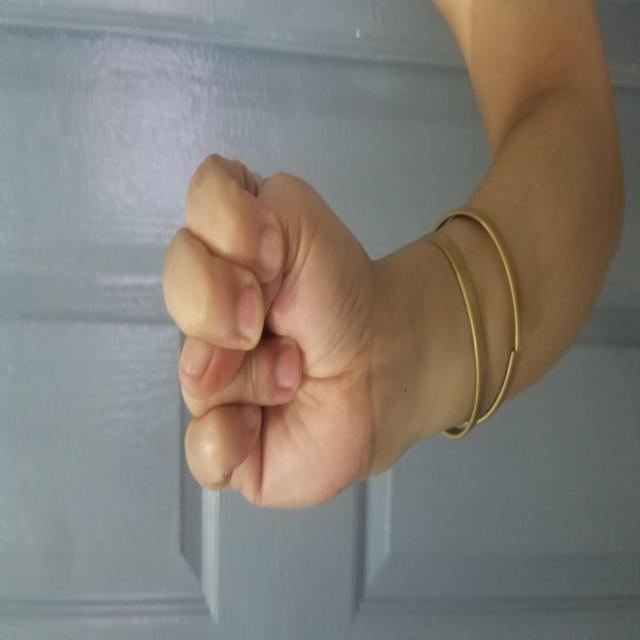N: (125, 162, 492, 370)
